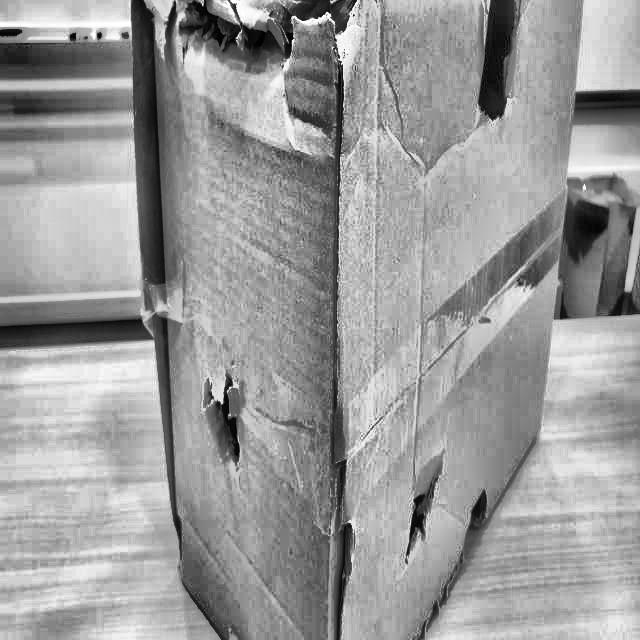box: (120, 0, 578, 640)
hole: (158, 1, 366, 61), (476, 4, 522, 120), (203, 363, 245, 472), (408, 467, 442, 569), (463, 487, 486, 569)
